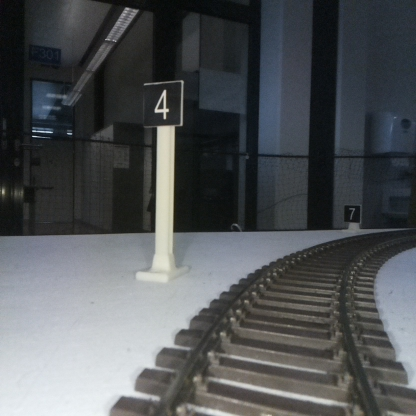black-info-4: (144, 82, 181, 280)
black-stop-7: (344, 205, 360, 230)
